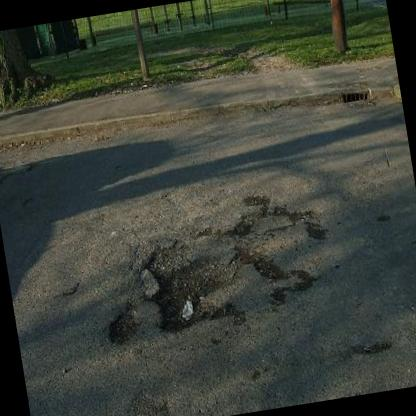pothole: (136, 226, 245, 338), (234, 238, 288, 284), (102, 301, 146, 346)
